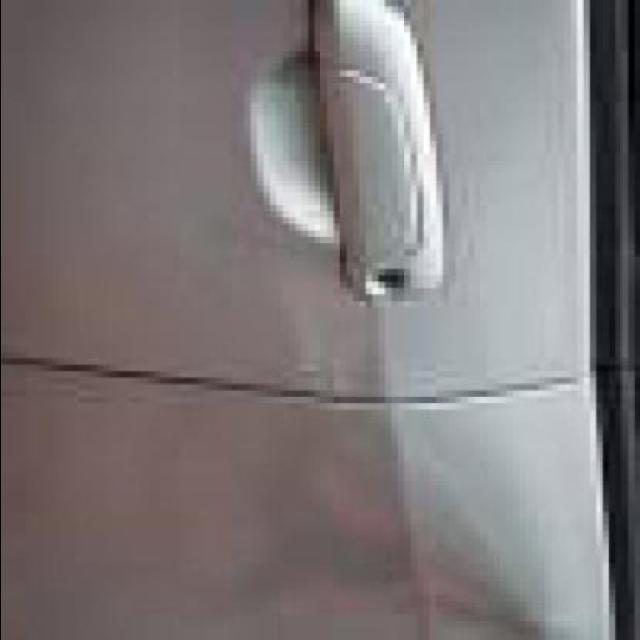doorouter-dent: (7, 205, 596, 634)
